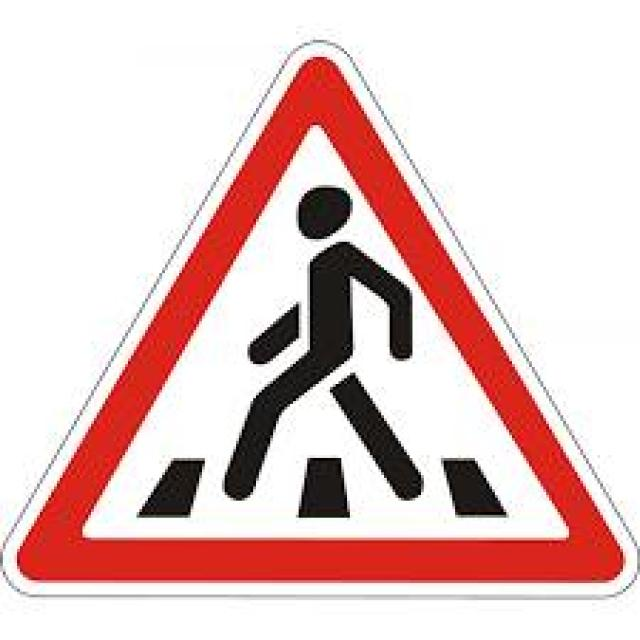Pedestrain_crossing: (0, 37, 639, 592)
